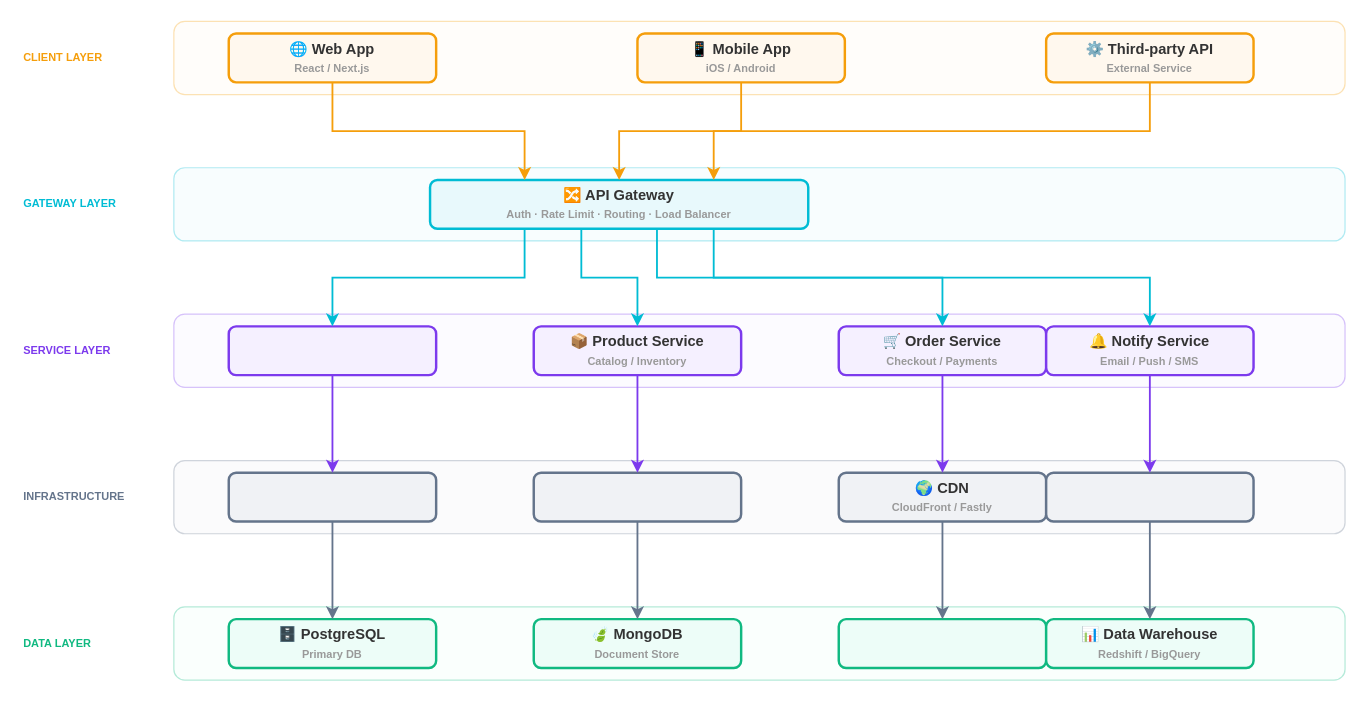
Image size: 1366x702. Some labels were removed from this diagram. The shapes that lost their labels are listed below. From the top down, each one's box as (x1, y1, x2, y2) in pixels, then its label:
(227, 325, 437, 376): 👤 User Service Auth / Profiles
(227, 471, 437, 522): ⚡ Redis Cache Sessions / Hot Data
(532, 471, 742, 522): 📨 Message Queue Kafka / RabbitMQ
(1044, 471, 1254, 522): 🔎 Search Index Elasticsearch
(837, 617, 1047, 669): ☁️ S3 Storage Files / Media
